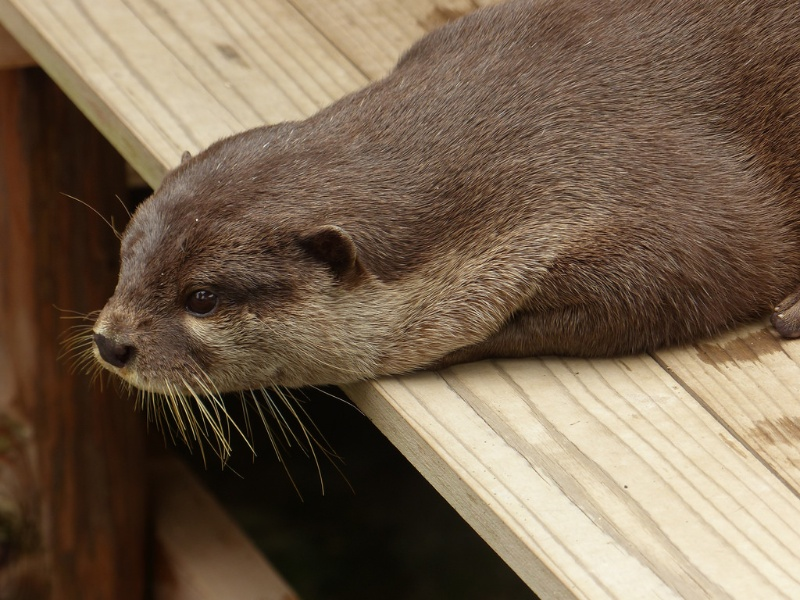minkish: (81, 1, 785, 420)
